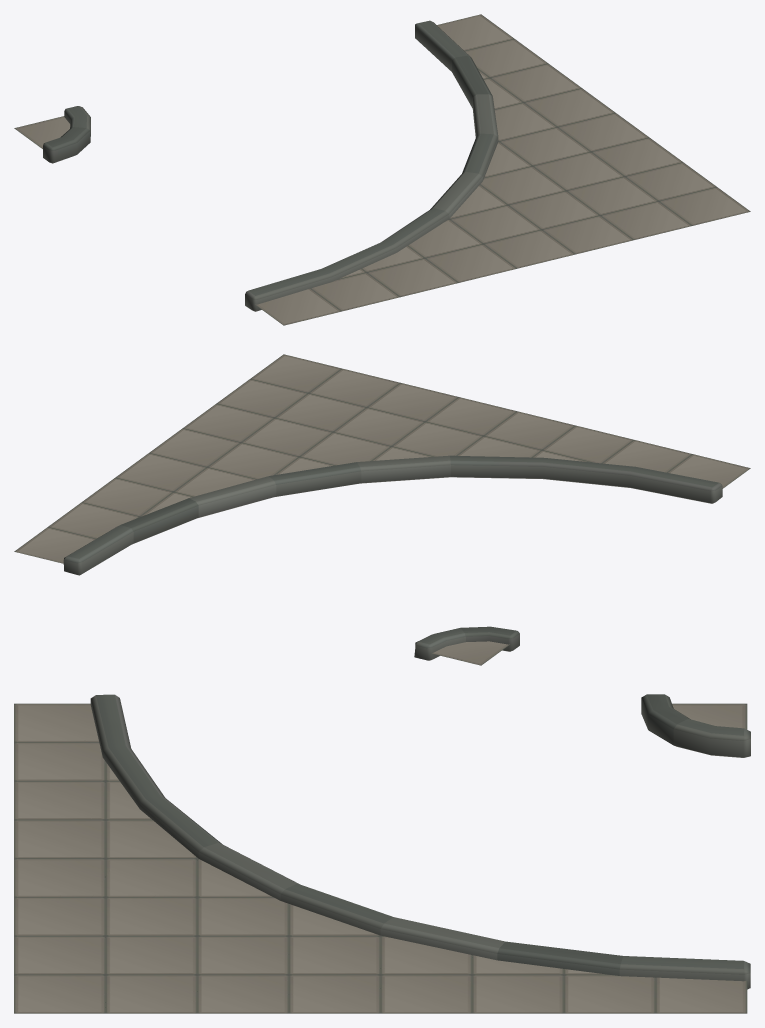
3 views of the same model, one above another, from view 1: azimuth 30°, elevation 25°; view 2: azimuth 150°, elevation 25°; view 3: azimuth 270°, elevation 25° (orthographic). The views are drawn at different scales.
Parts seen in each view (by area): view 1: road_section_turn_tight_sidewalk, road_section_turn_tight; view 2: road_section_turn_tight_sidewalk, road_section_turn_tight; view 3: road_section_turn_tight_sidewalk, road_section_turn_tight.
Part boxes in pixels (x1,y1,x2,y2): road_section_turn_tight_sidewalk: (14,14,750,325); road_section_turn_tight: (43,20,498,311); road_section_turn_tight_sidewalk: (14,354,750,665); road_section_turn_tight: (63,455,722,660); road_section_turn_tight_sidewalk: (14,703,747,1013); road_section_turn_tight: (90,694,750,989).
Bounding box in the file's own units: 16.06 × 0.5475 × 16.08.
Materials: 2 (2 with a texture image).
